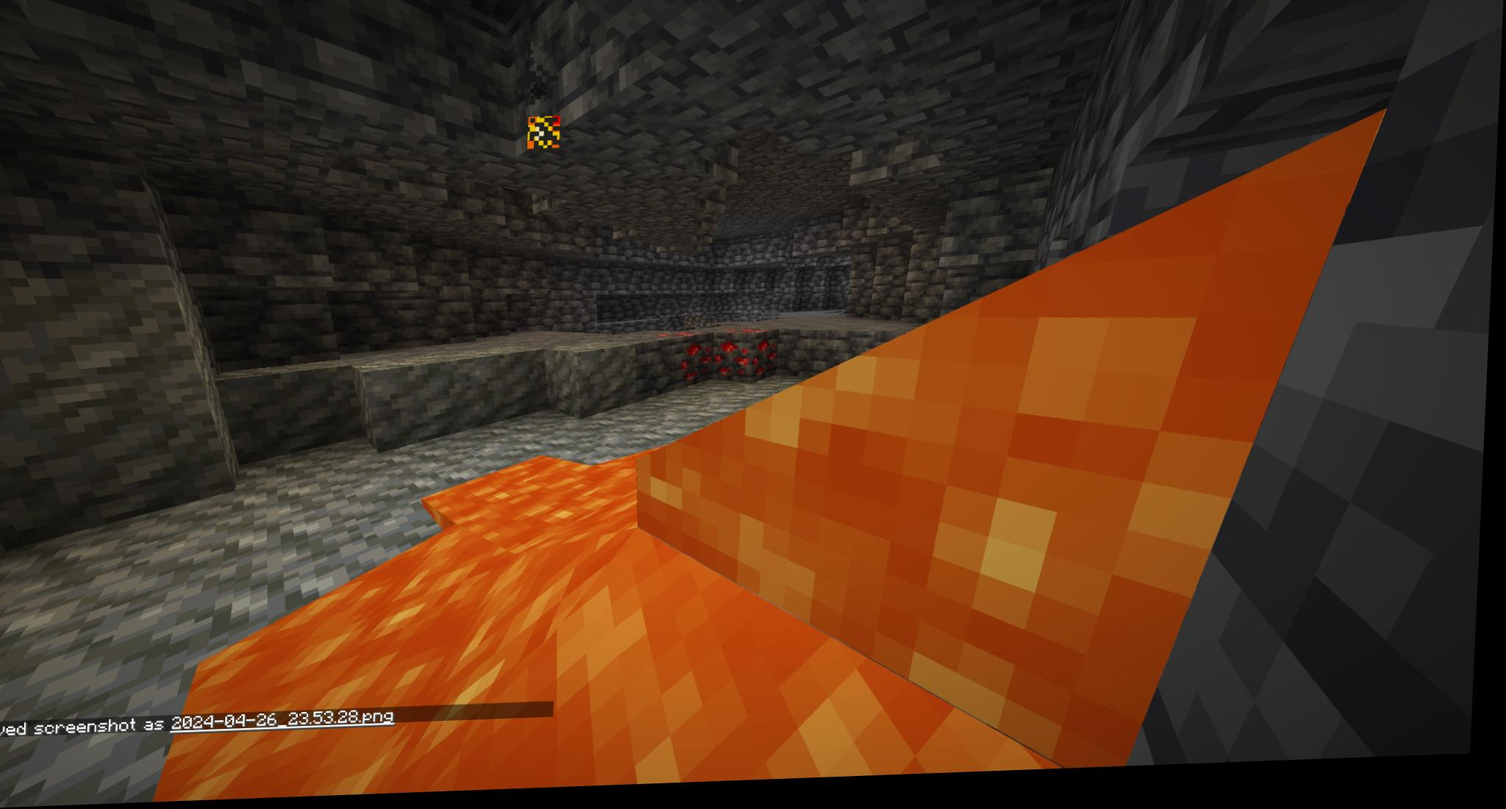redstone ore: (721, 327, 780, 391), (662, 333, 721, 386)
